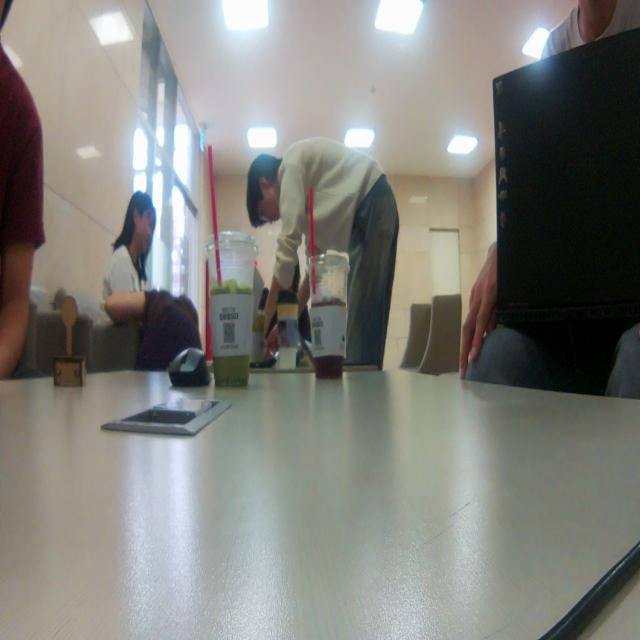target: (52, 295, 86, 388)
